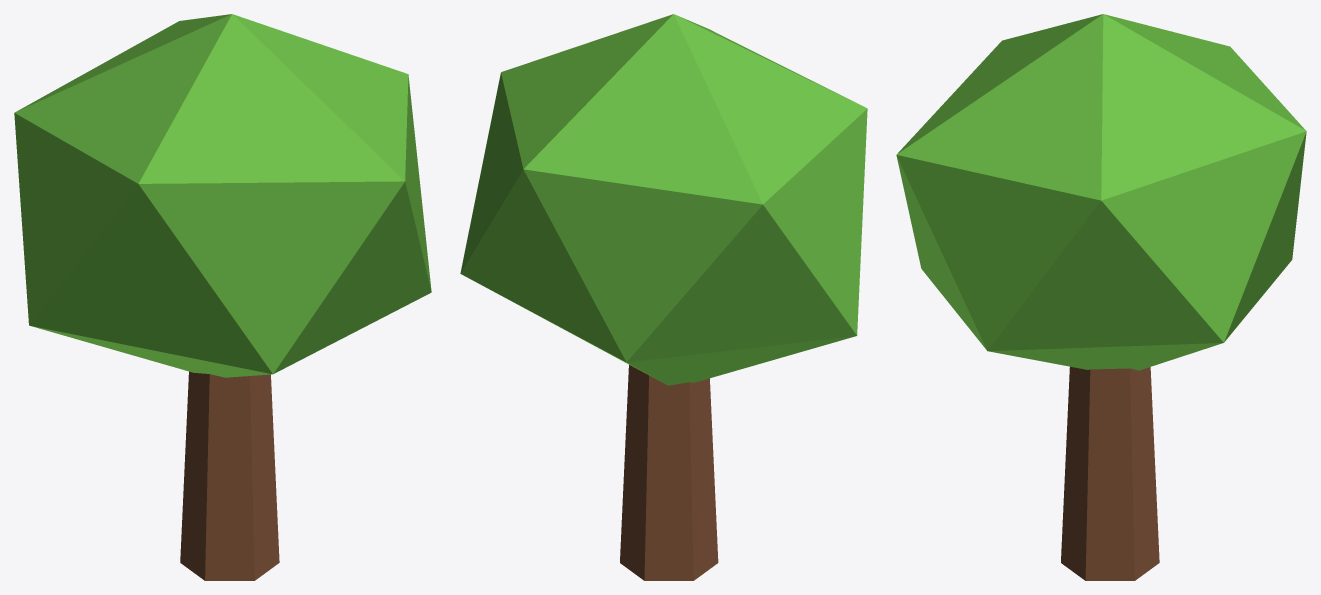
File: tree_round_1.glb
The picture shows the model from 3 angles, left to right: view 1: azimuth 30°, elevation 25°; view 2: azimuth 150°, elevation 25°; view 3: azimuth 270°, elevation 25°; orthographic projection.
Visible parts, largest first — view 1: tree_round_1; view 2: tree_round_1; view 3: tree_round_1.
Part boxes in pixels (<box>): tree_round_1: <box>14,14,431,580</box>; tree_round_1: <box>460,14,867,580</box>; tree_round_1: <box>896,14,1306,580</box>.
Bounding box in the file's own units: 1.55 × 2.2 × 1.49.
